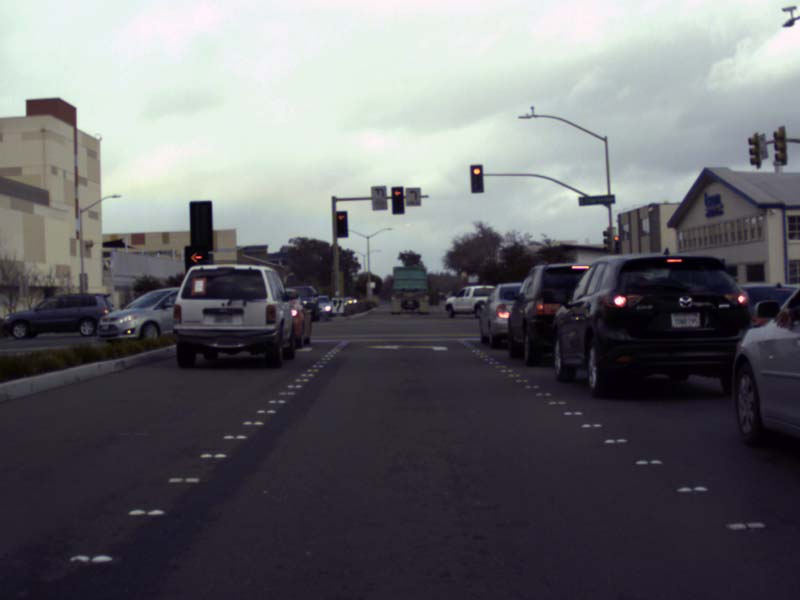Red: (185, 246, 205, 287), (469, 164, 483, 192), (335, 210, 348, 237), (391, 187, 404, 214), (613, 234, 619, 256)
